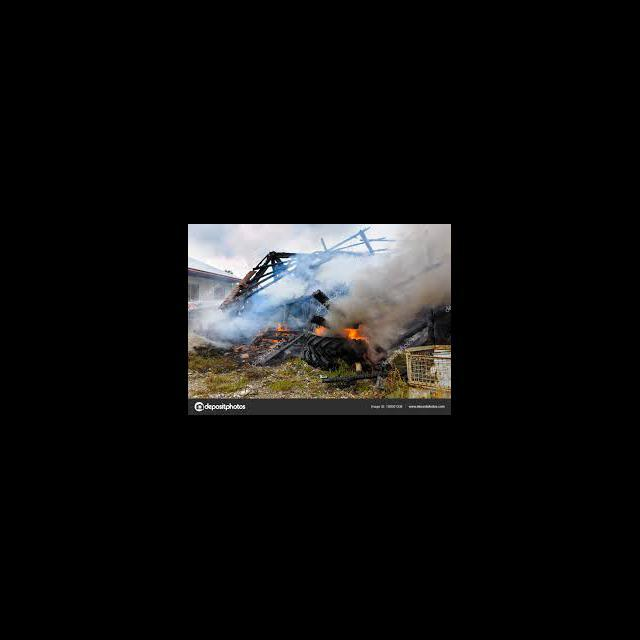Fire: (344, 324, 364, 341), (312, 323, 328, 339)
Smoke: (328, 228, 450, 308), (196, 292, 262, 351), (262, 263, 328, 317)
